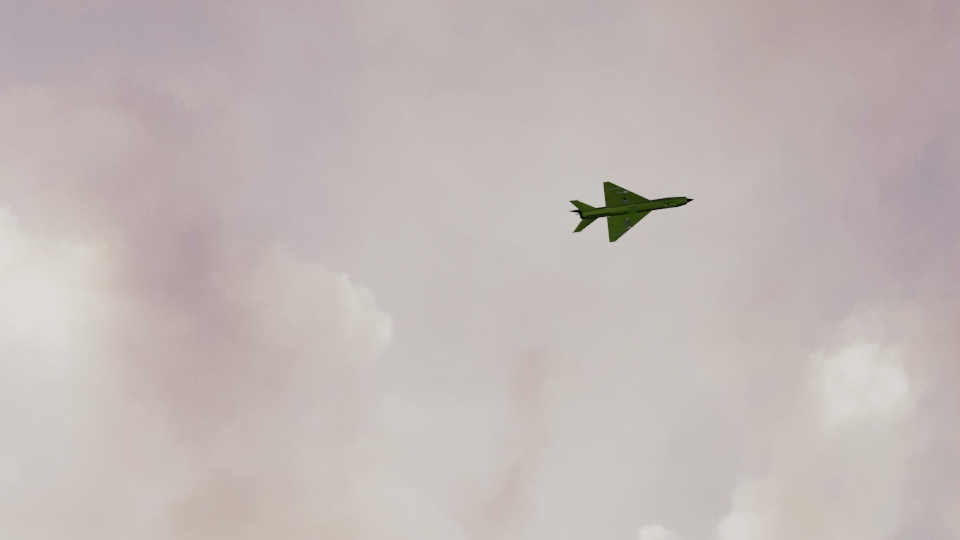plane: (569, 181, 693, 243)
